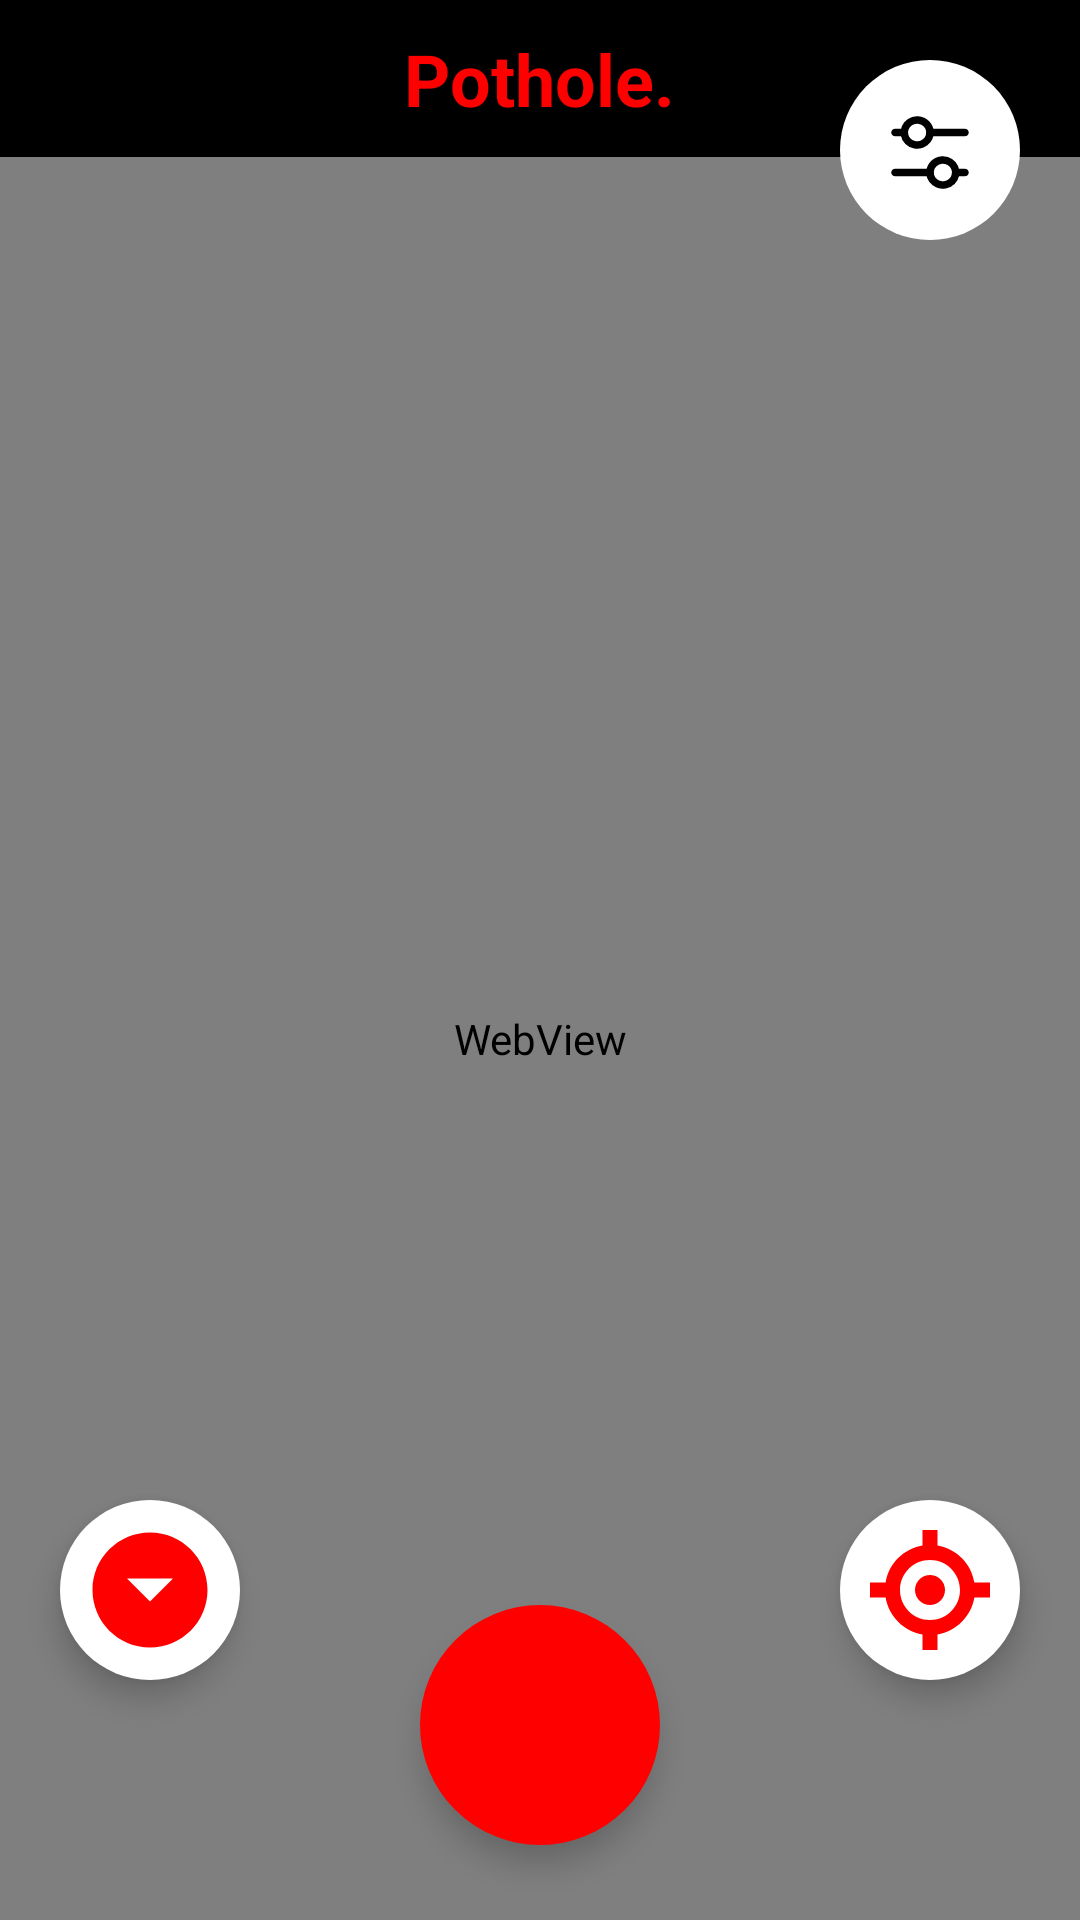

Point at icon controls on the screen. Image size 1080px×1920px, points as (x=x, y=y).
settings: (x=930, y=150)
